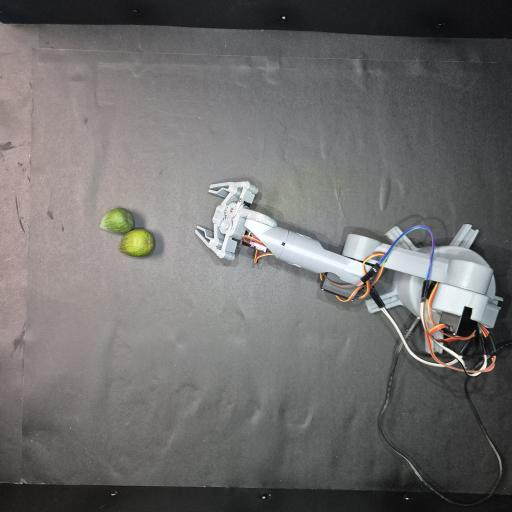higo: (100, 207, 155, 257)
